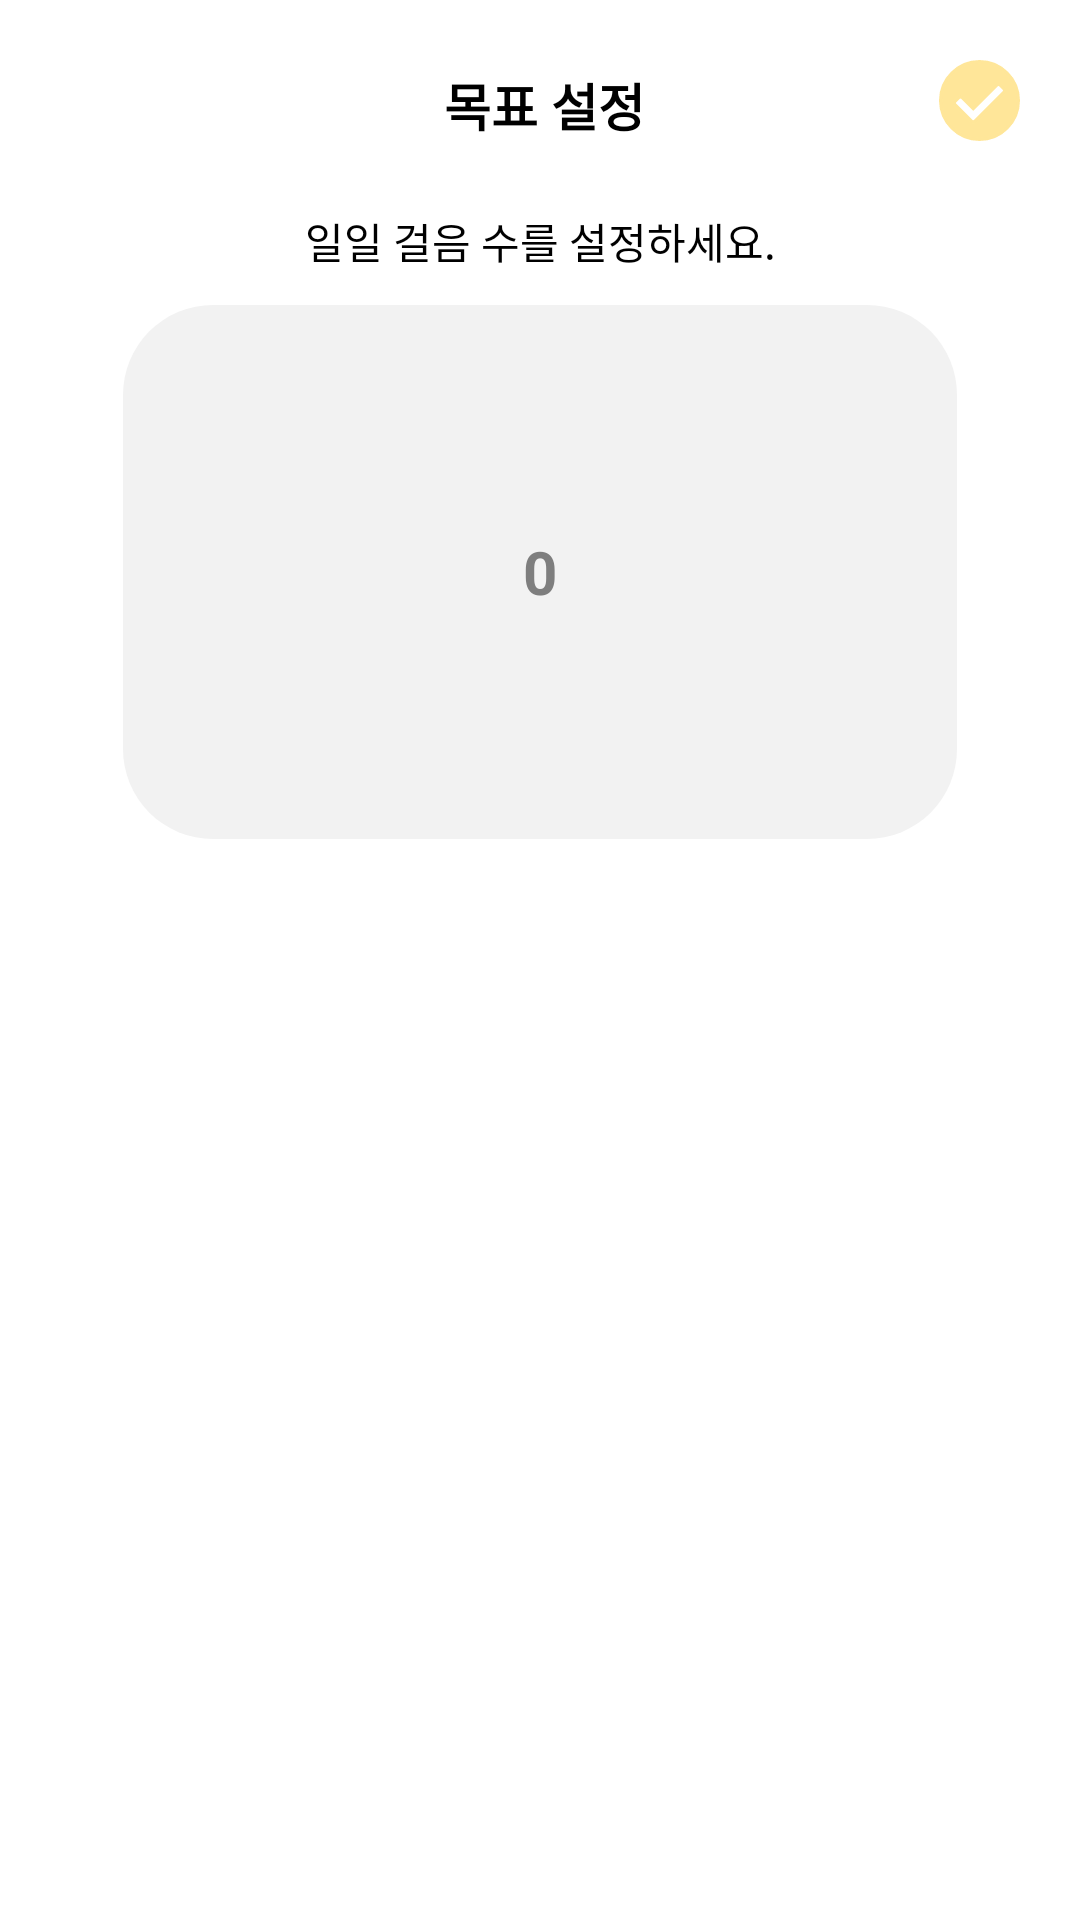

Icons on this 1080px x 1920px Android screen, each with the point to tap as (x=x, y=y):
check: (x=979, y=100)
